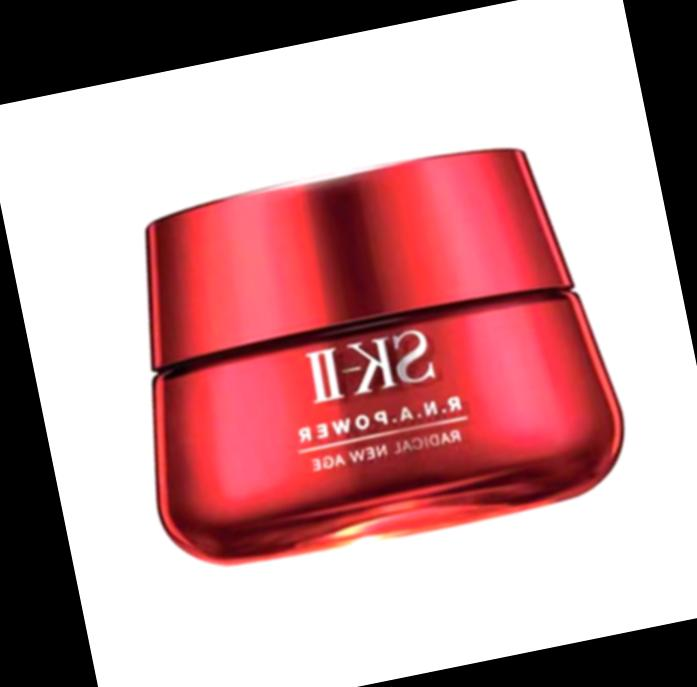cosmetic: (112, 132, 621, 568)
